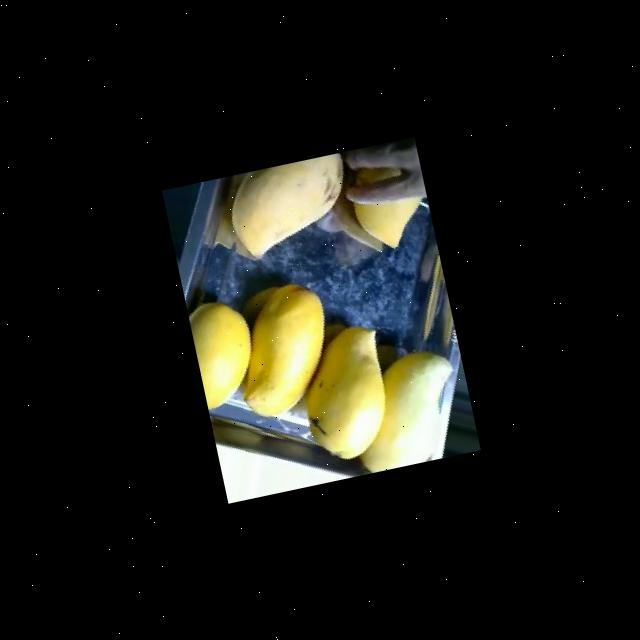Mango: (218, 276, 342, 423), (337, 342, 471, 475), (287, 318, 402, 468), (220, 152, 359, 264), (342, 144, 434, 256), (186, 294, 264, 411)
